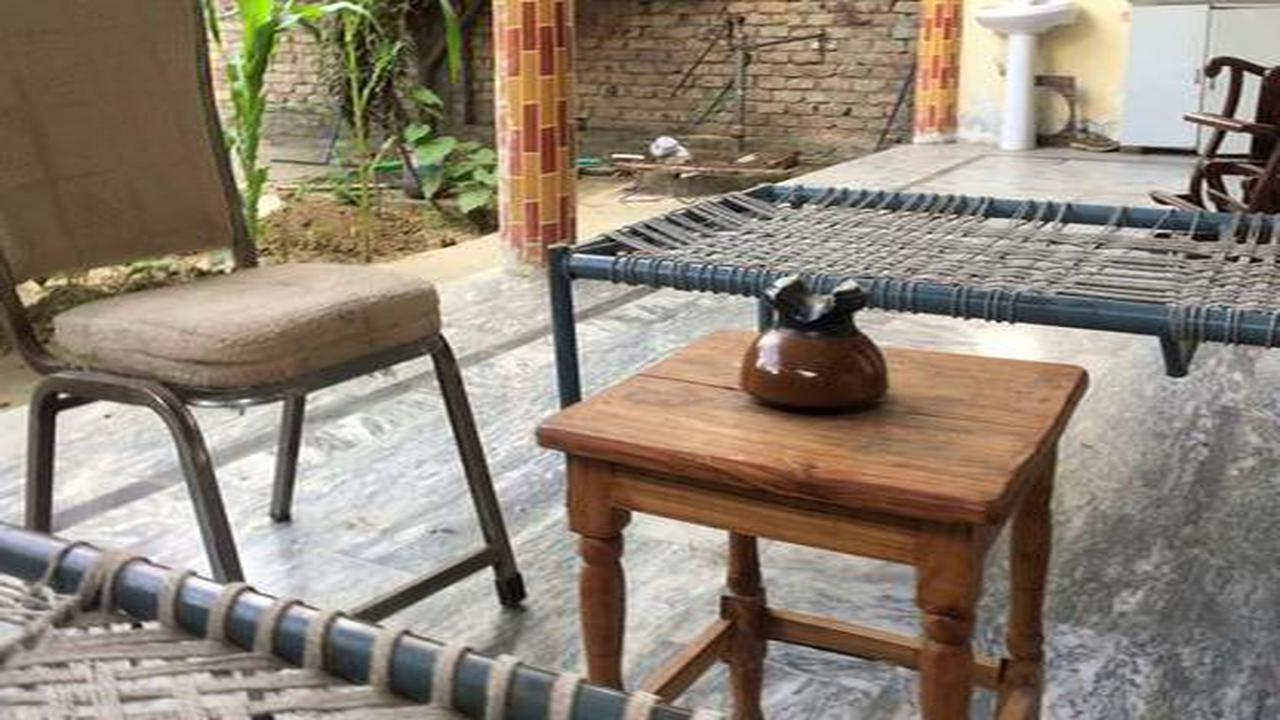insulator_pin: (724, 262, 902, 425)
